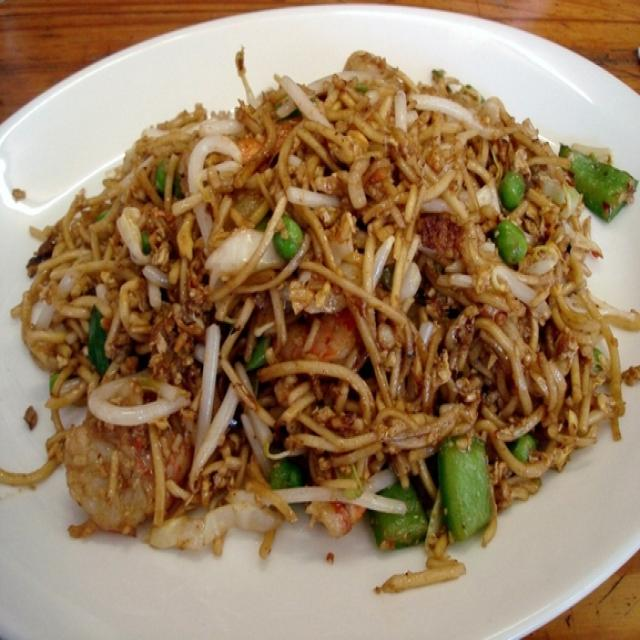面条主食: (21, 53, 621, 568)
